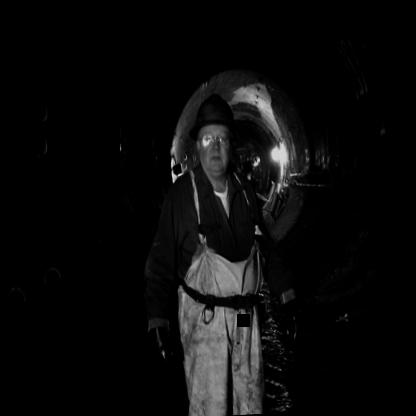helmet: (182, 78, 240, 196)
